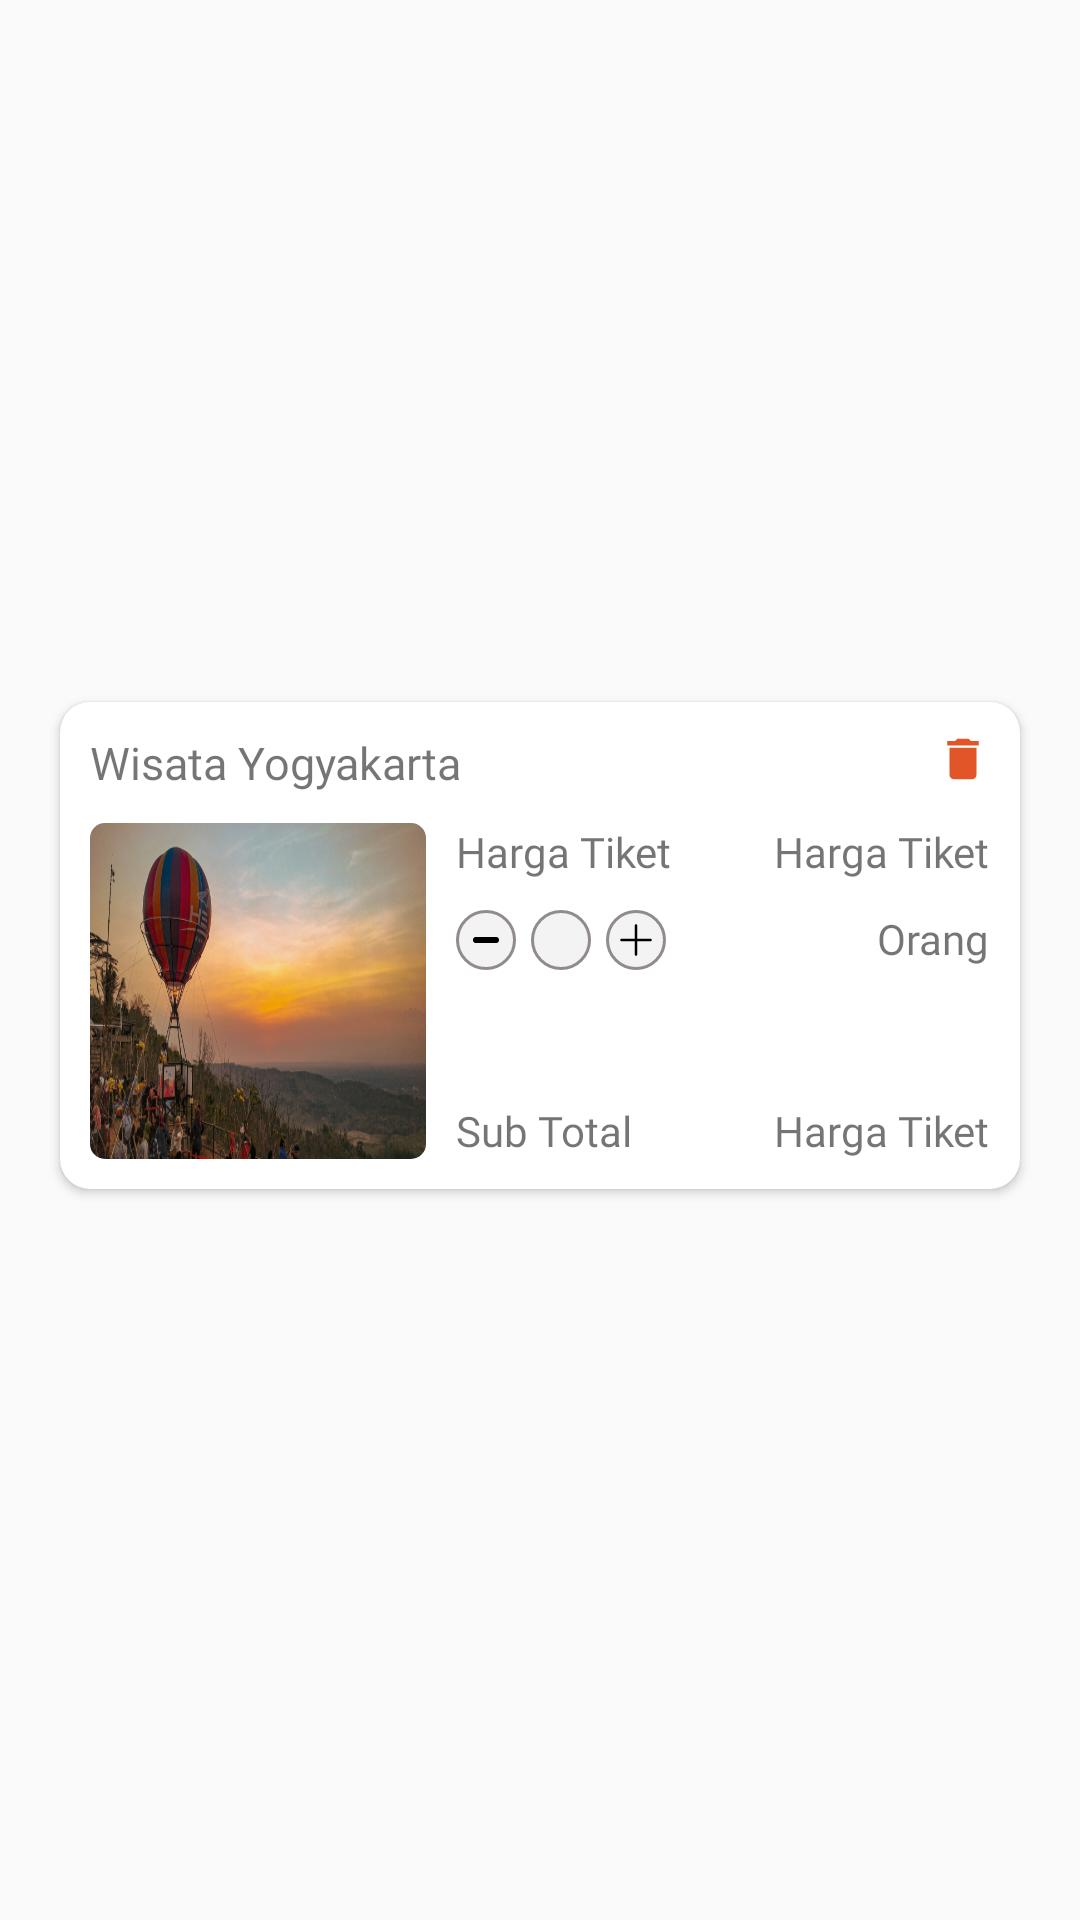

Icon bounding boxes for this 1080 × 1920 phone screenshot, format (x1, y1, x2, y2):
delete: (947, 738, 979, 780)
minus: (456, 910, 516, 970)
plus: (606, 910, 666, 970)
